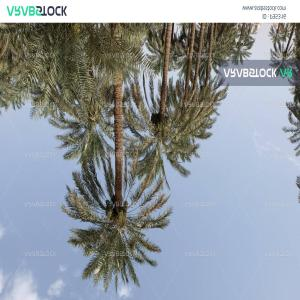palm tree: (0, 21, 258, 293)
